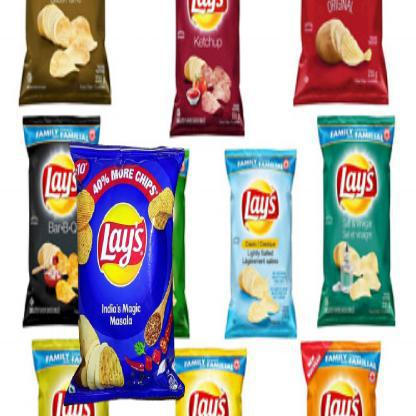classicsalted: (173, 348, 245, 415)
cream_and_onion: (35, 340, 109, 415)
hot_and_sweet: (302, 342, 377, 415)
indian_magic_masala: (69, 144, 182, 403)
